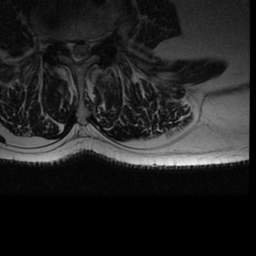CCS_normal: (75, 35, 83, 68)
LFS_normal: (93, 29, 103, 55)
LLS_normal: (84, 34, 93, 61)
RFS_severe_stenosis: (56, 29, 65, 57)
RLS_normal: (65, 32, 75, 64)
